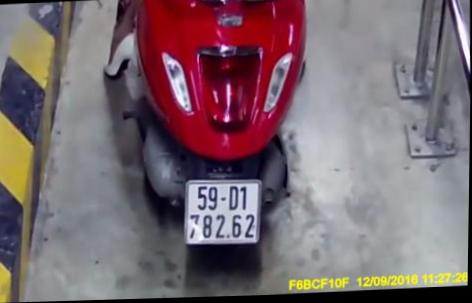LP: (185, 178, 261, 247)
